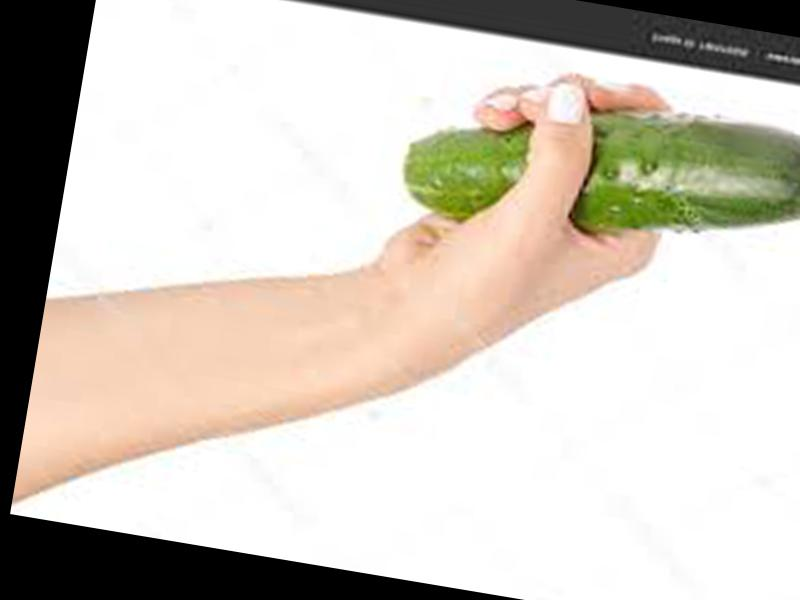Cucumber: (399, 68, 800, 279)
